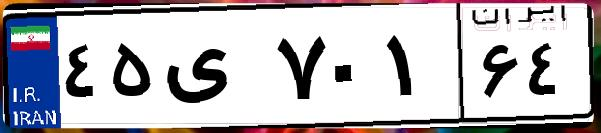0: (330, 28, 385, 110)
1: (385, 28, 445, 110)
4: (57, 26, 110, 100), (525, 38, 570, 115)
5: (110, 28, 158, 98)
6: (475, 38, 525, 113)
7: (270, 28, 330, 110)
ی: (158, 20, 270, 120)
